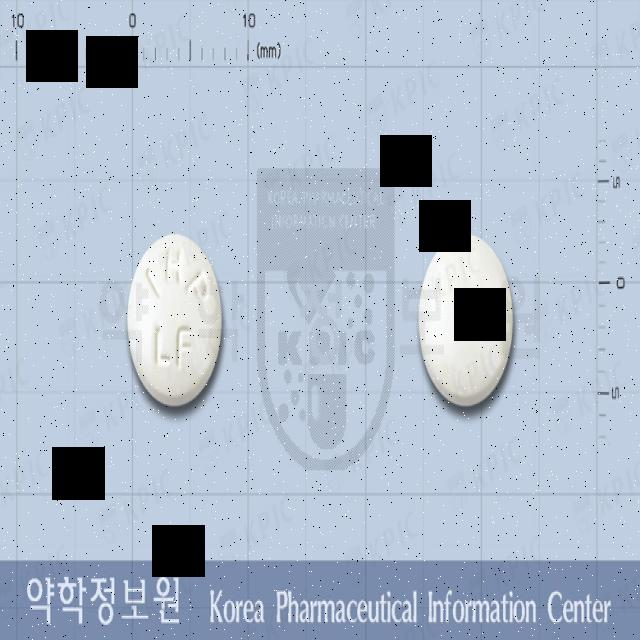Lesacin: (126, 230, 224, 408), (420, 229, 515, 410)
